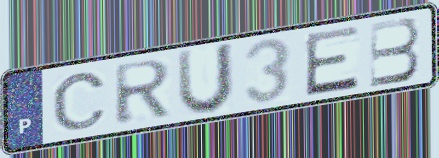3: (242, 34, 296, 107)
B: (367, 15, 423, 89)
C: (50, 70, 110, 132)
E: (302, 23, 362, 99)
R: (111, 57, 174, 128)
U: (174, 40, 237, 117)
